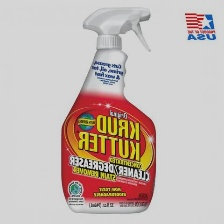cleaning_solution: (58, 4, 161, 216)
